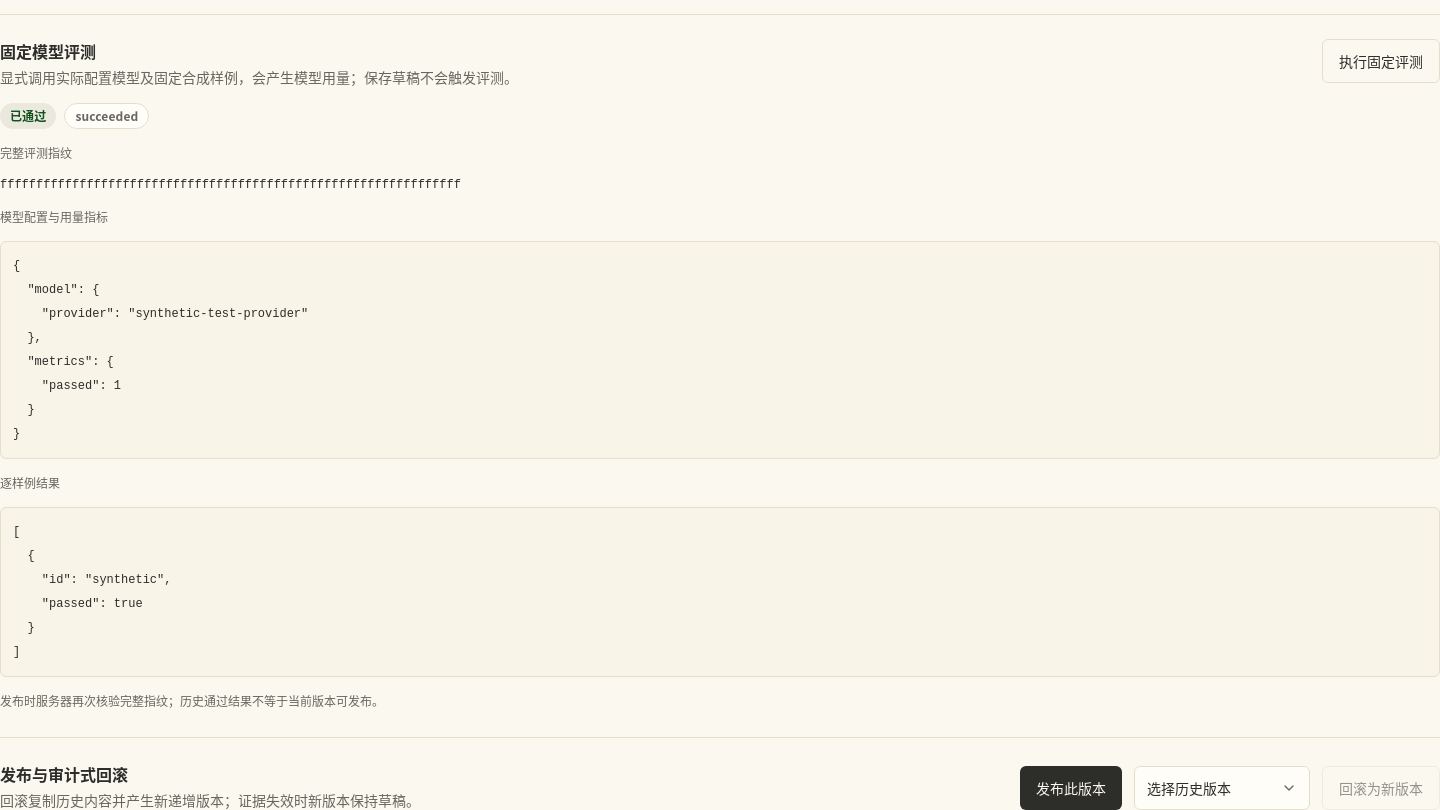
发布确认使用草稿创建时基准，不静默采用当前活动指针；409不重发
(page scrolled)
Click the button "发布此版本".
click(1071, 788)  # box left=1020, top=766, right=1122, bottom=809
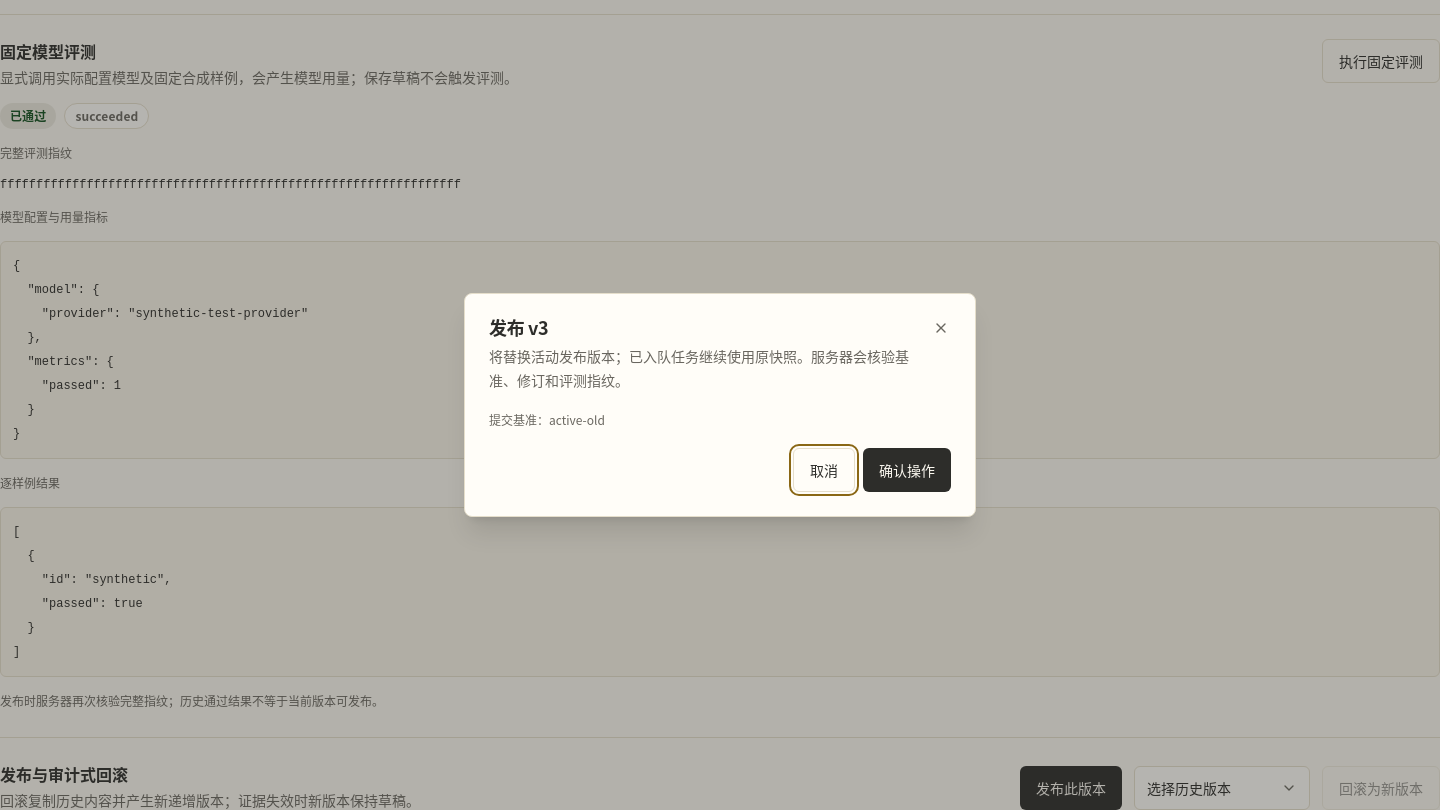
Expected: the dialog shows "active-old", left=549, top=411, right=605, bottom=428
Click the button "确认操作".
click(907, 470)  # box left=863, top=448, right=951, bottom=492
(page scrolled)
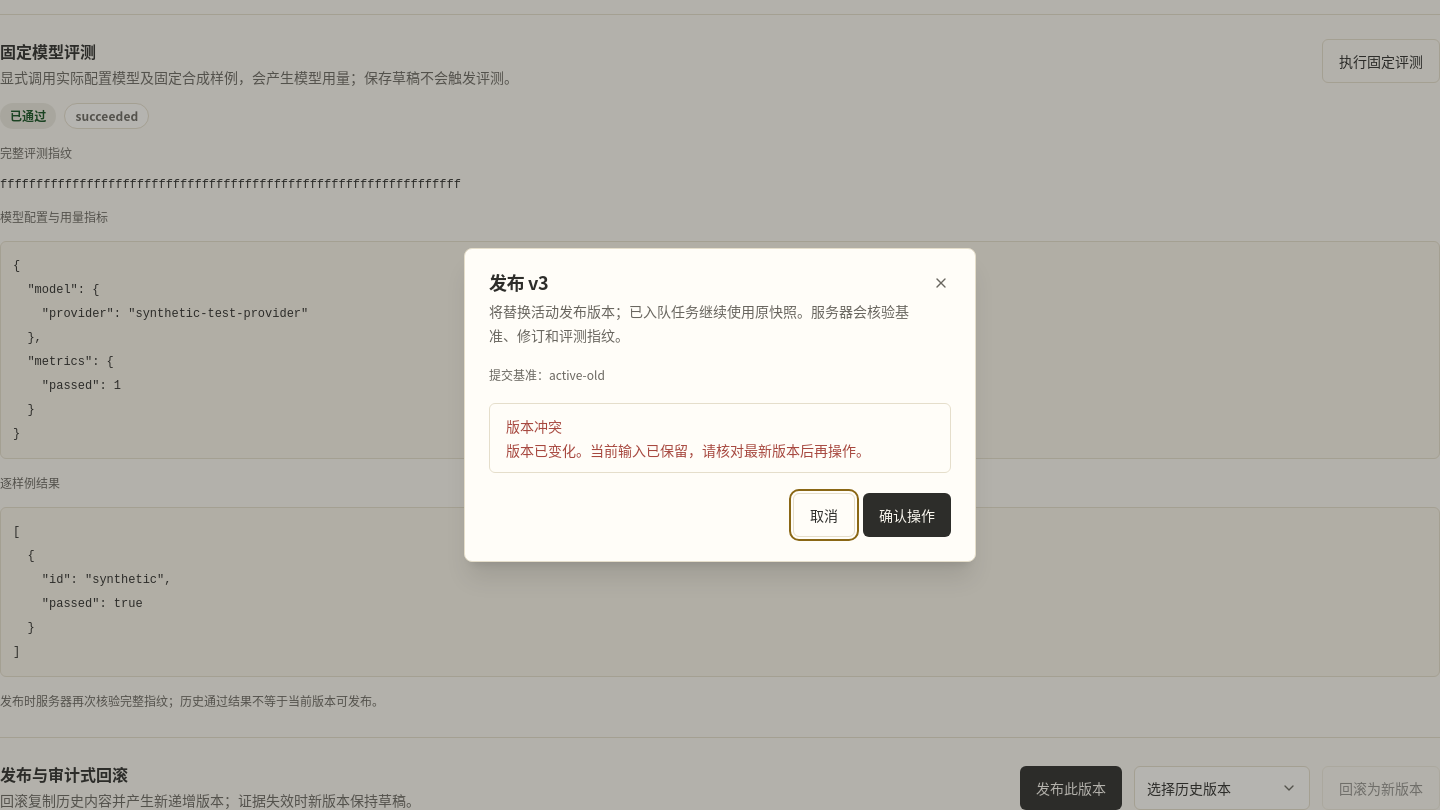
Expected: the dialog shows "当前输入已保留", left=506, top=440, right=870, bottom=460
